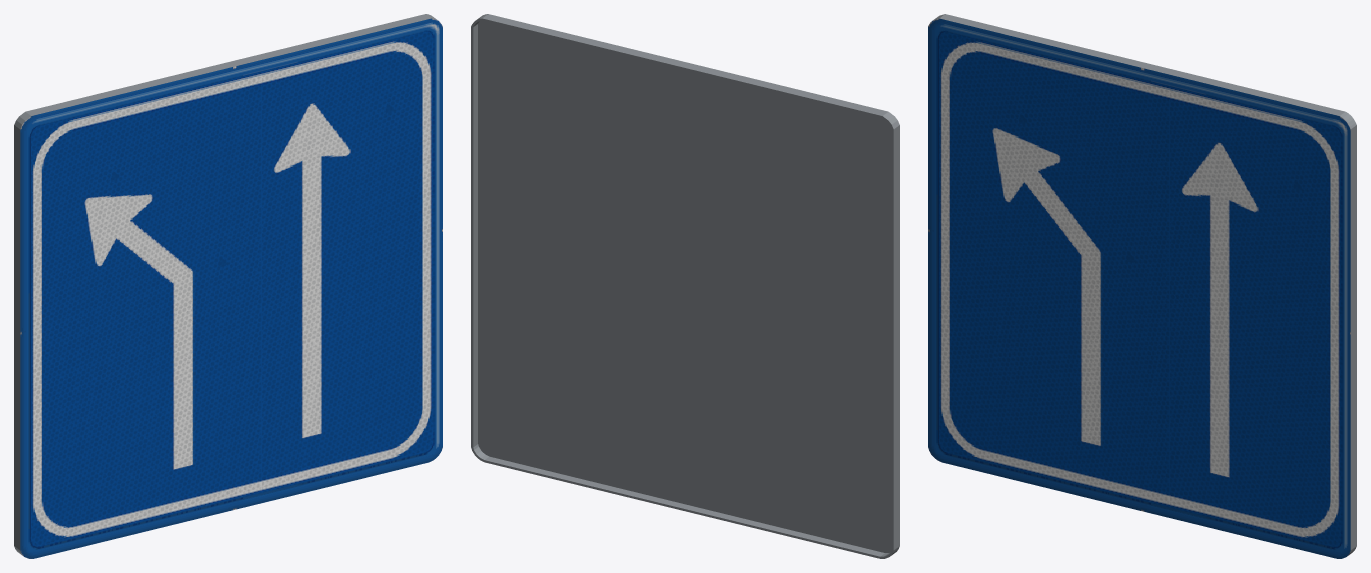
The picture shows the model from 3 angles, left to right: view 1: azimuth 30°, elevation 25°; view 2: azimuth 150°, elevation 25°; view 3: azimuth 330°, elevation 25°; orthographic projection.
Parts seen in each view (by area): view 1: cat_68980ad7bc750e6c; view 2: cat_68980ad7bc750e6c; view 3: cat_68980ad7bc750e6c.
Part boxes in pixels (left/top/right/bottom): cat_68980ad7bc750e6c: left=14, top=14, right=442, bottom=558; cat_68980ad7bc750e6c: left=471, top=14, right=899, bottom=558; cat_68980ad7bc750e6c: left=928, top=14, right=1356, bottom=558.
Bounding box in the file's own units: 0.6 × 0.015 × 0.6014.
Materials: 2 (1 with a texture image).
